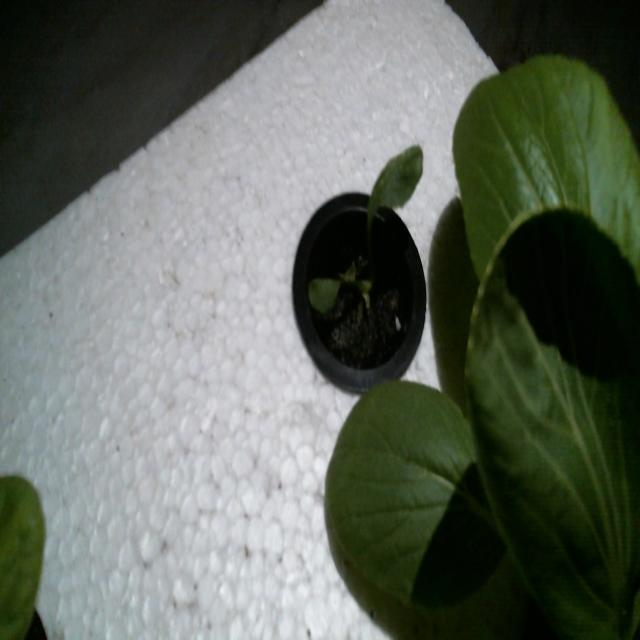pakcoy_sehat: (323, 8, 640, 639)
